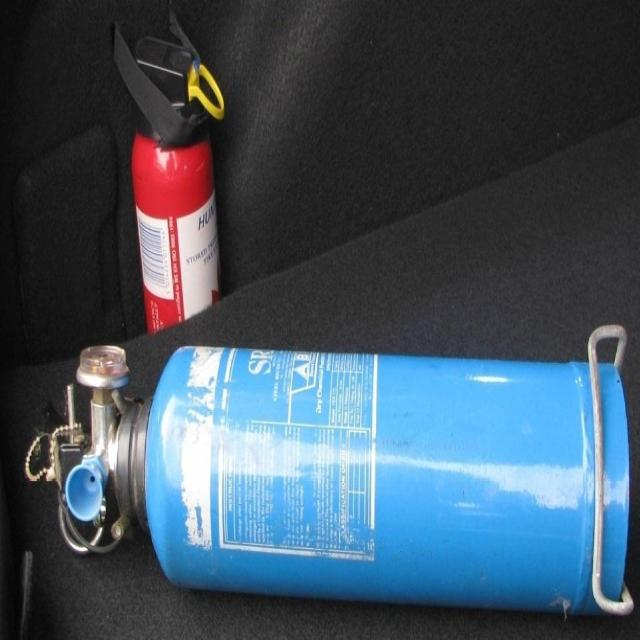fire_extinguisher: (24, 336, 639, 628), (126, 32, 230, 430)
